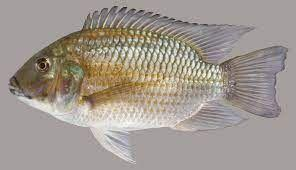Tilapia: (6, 5, 289, 164)
